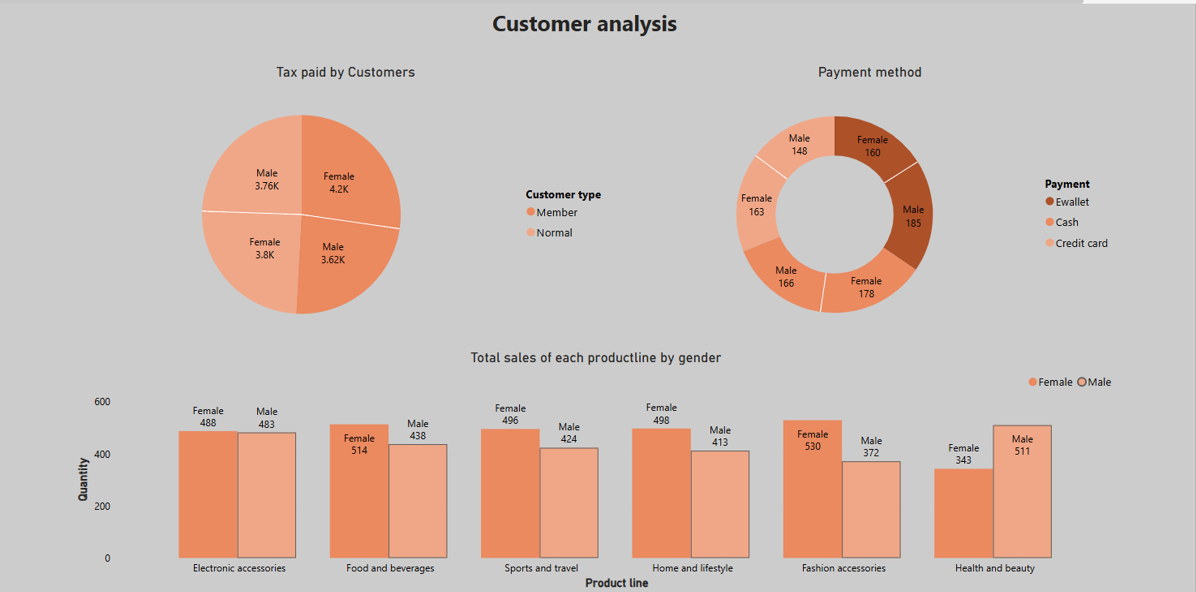

This screenshot's page, from the dashboard's own definition file:
{"tool":"powerbi","page":{"name":"Customer analysis","canvas":[1280,720],"ordinal":2},"visuals":[{"type":"clusteredColumnChart","title":"Total sales of each productline by gender","fields":{"Category":["WalmartSalesData csv.Product line"],"Y":["Sum(WalmartSalesData csv.Quantity)"],"Series":["WalmartSalesData csv.Gender"]},"box":[0,422.6,1280.8,297.9],"z":0},{"type":"textbox","box":[508.4,0,246.1,45.3],"z":1000},{"type":"donutChart","title":"Payment method ","fields":{"Category":["WalmartSalesData csv.Payment"],"Series":["WalmartSalesData csv.Gender"],"Y":["CountNonNull(WalmartSalesData csv.Payment)"]},"box":[668.7,72.9,612.1,349.8],"z":2000},{"type":"pieChart","title":"Tax paid by Customers","fields":{"Category":["WalmartSalesData csv.Customer type"],"Y":["Sum(WalmartSalesData csv.Tax 5%)"],"Series":["WalmartSalesData csv.Gender"]},"box":[0,72.9,668.7,349.8],"z":3000}]}

Visuals, with their boxes on the page's 1280x720 design canvas (x1, y1, x2, y2). These are canvas units, not pixel positions in the 1196x592 screenshot, which may show the page scaled, cropped or inside an application window:
"Total sales of each productline by gender" clusteredColumnChart: [0, 423, 1281, 720]
textbox: [508, 0, 754, 45]
"Payment method " donutChart: [669, 73, 1281, 423]
"Tax paid by Customers" pieChart: [0, 73, 669, 423]
